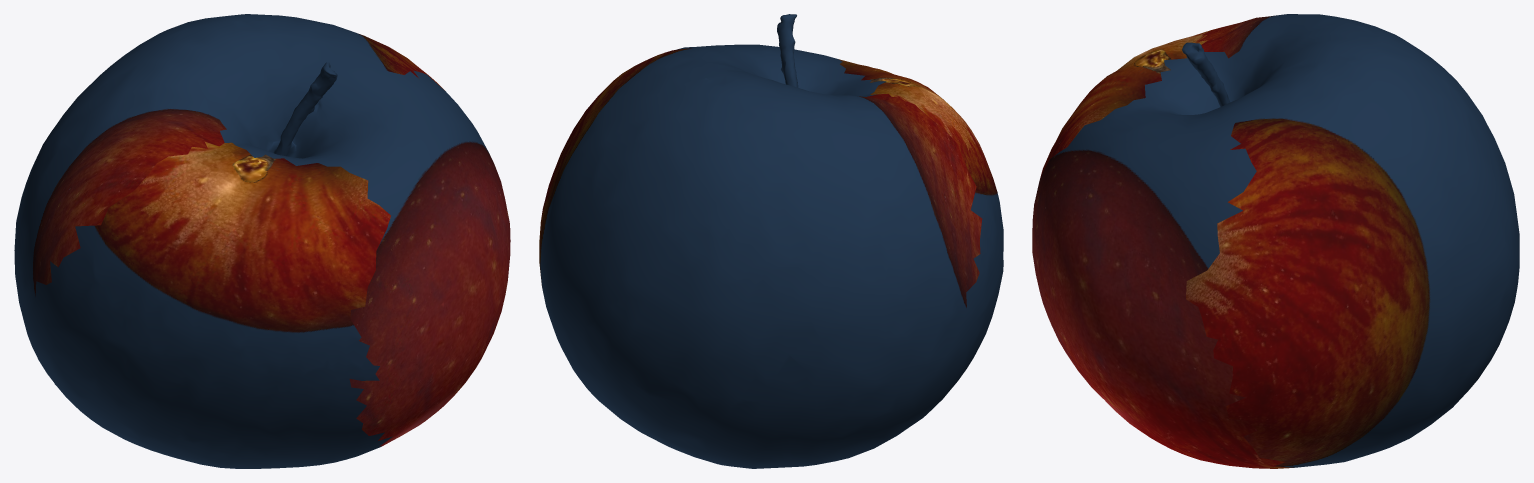
File: apple.obj
The picture shows the model from 3 angles, left to right: view 1: azimuth 30°, elevation 25°; view 2: azimuth 150°, elevation 25°; view 3: azimuth 270°, elevation 25°; orthographic projection. The views are drawn at different scales.
Visible parts, largest first — view 1: obj1; view 2: obj1; view 3: obj1.
Boxes of the visible parts, left/top/right/bottom form: obj1: left=14, top=14, right=510, bottom=468; obj1: left=539, top=14, right=1003, bottom=468; obj1: left=1032, top=14, right=1519, bottom=468.
Size of the model in its own units: 0.0976 by 0.0854 by 0.0959.
